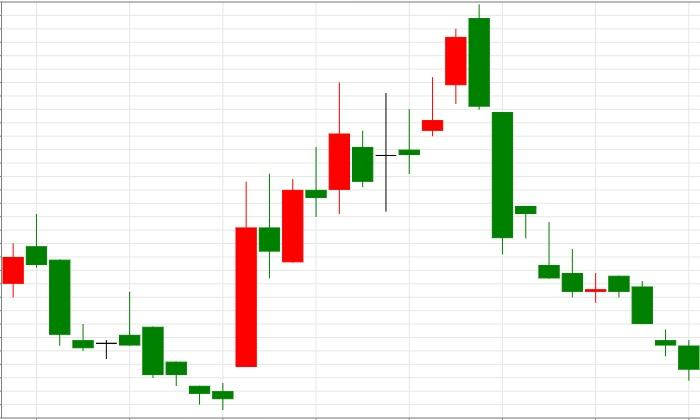bearish_engulfing_fall: (282, 4, 490, 263)
